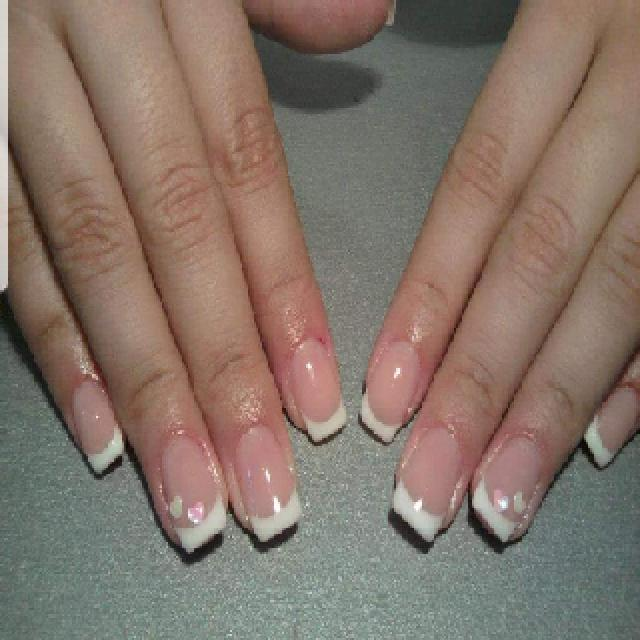Nail: (394, 429, 461, 542), (470, 438, 540, 546), (234, 429, 301, 541), (161, 439, 224, 553), (361, 341, 421, 442), (288, 339, 346, 440), (72, 379, 124, 473), (585, 388, 640, 468)
